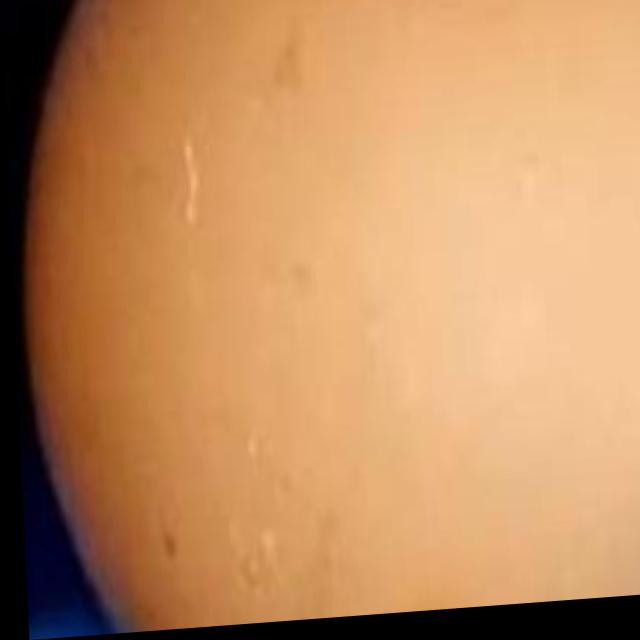fresh: (14, 0, 640, 639)
